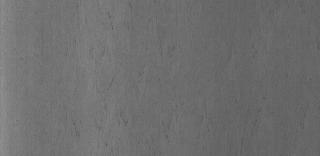silk spot: (82, 22, 176, 109)
